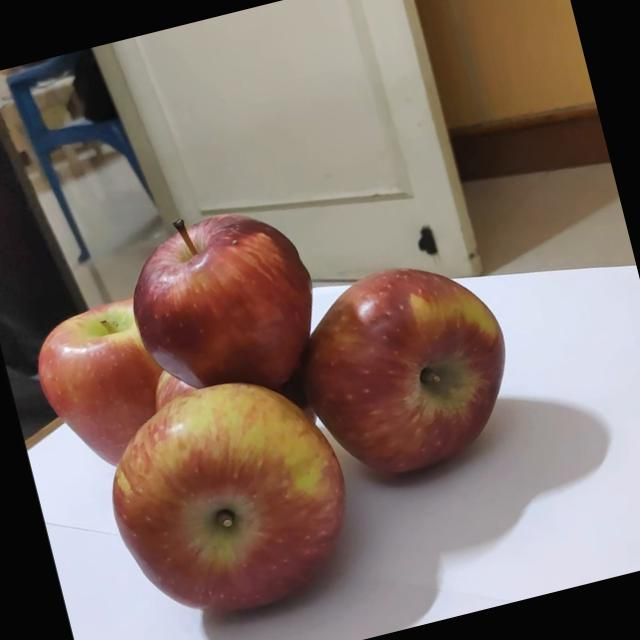apple: (252, 222, 536, 518), (98, 388, 325, 621), (93, 191, 314, 415), (0, 267, 194, 469)
